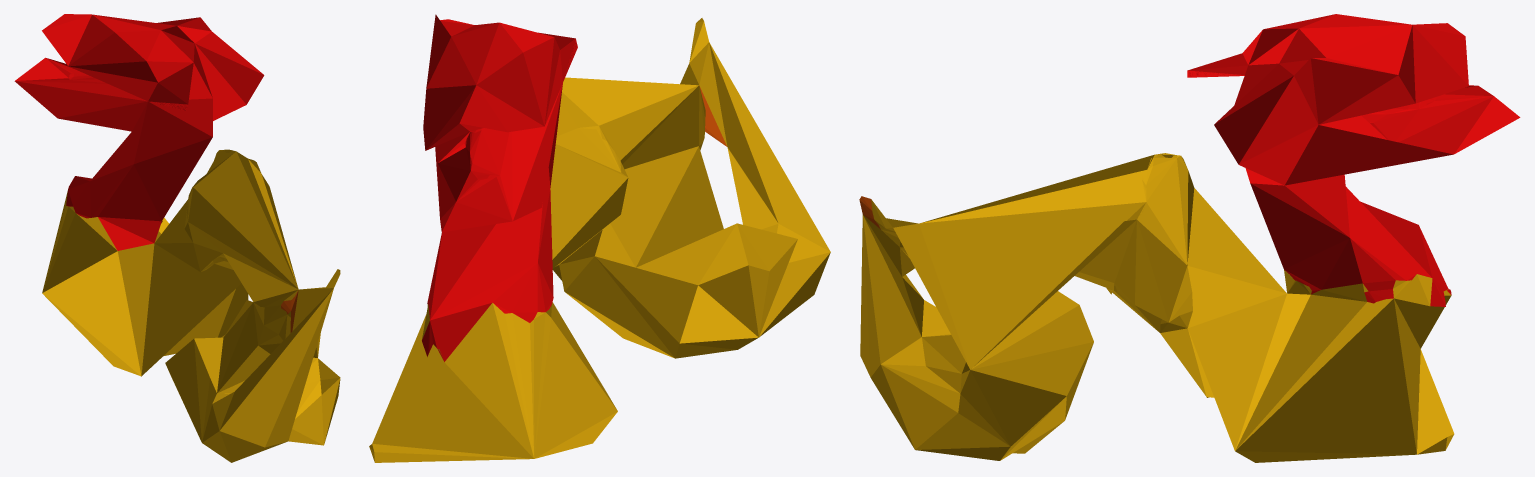
Rendered from Dragon_80K_L8.fbx.
3 renders of one model, left to right at view 1: azimuth 30°, elevation 25°; view 2: azimuth 150°, elevation 25°; view 3: azimuth 270°, elevation 25°, orthographic. The views are drawn at different scales.
Bounding box in the file's own units: 0.3736 × 0.6239 × 0.8935.
